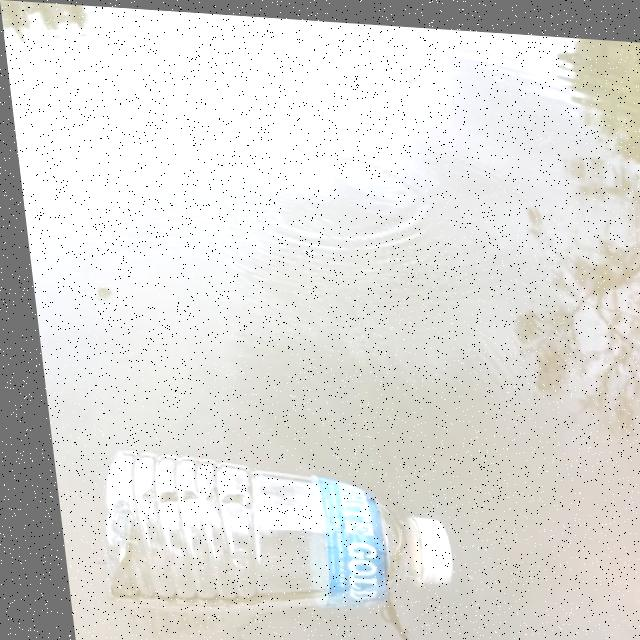waterbottle: (78, 432, 473, 640)
